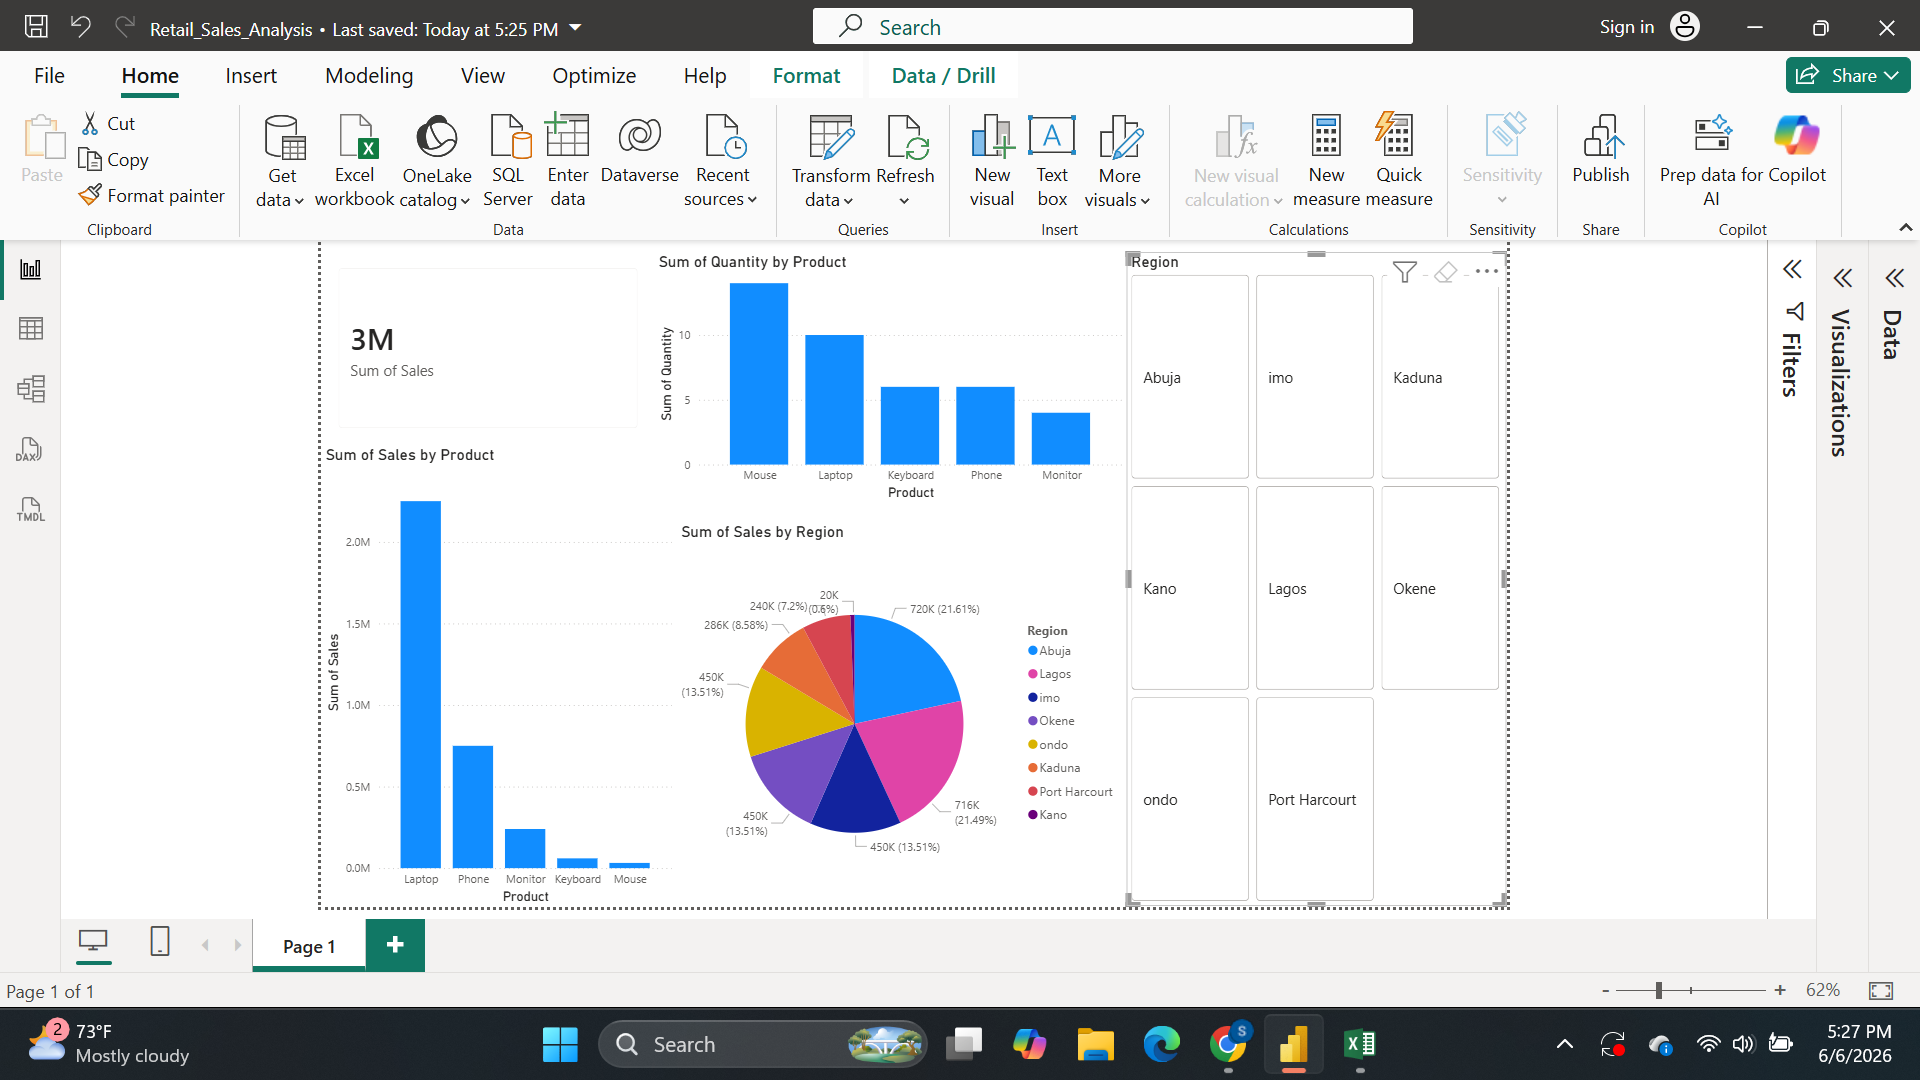

The dashboard page shown, as its layout file describes it:
{"tool":"powerbi","page":{"name":"Page 1","canvas":[1280,720],"ordinal":0},"visuals":[{"type":"clusteredColumnChart","fields":{"Y":["Sum(Sheet1.Sales)"],"Category":["Sheet1.Product"]},"box":[0,221.1,383.6,498.9],"z":0},{"type":"pieChart","fields":{"Category":["Sheet1.Region"],"Y":["Sum(Sheet1.Sales)"]},"box":[383.6,304.3,485.7,415.8],"z":1},{"type":"cardVisual","fields":{"Data":["Sum(Sheet1.Sales)"]},"box":[1.9,13.2,357.2,207.9],"z":2},{"type":"columnChart","fields":{"Category":["Sheet1.Product"],"Y":["Sum(Sheet1.Quantity)"]},"box":[359.1,13.2,510.2,272.1],"z":3},{"type":"advancedSlicerVisual","fields":{"Values":["Sheet1.Region"]},"box":[869.3,13.2,410.1,706.8],"z":4}]}

Visuals, with their boxes on the page's 1280x720 design canvas (x1, y1, x2, y2). These are canvas units, not pixel positions in the 1920x1080 screenshot, which may show the page scaled, cropped or inside an application window:
clusteredColumnChart - Sum(Sheet1.Sales) x Sheet1.Product: (x1=0, y1=221, x2=384, y2=720)
pieChart - Sheet1.Region x Sum(Sheet1.Sales): (x1=384, y1=304, x2=869, y2=720)
cardVisual - Sum(Sheet1.Sales): (x1=2, y1=13, x2=359, y2=221)
columnChart - Sheet1.Product x Sum(Sheet1.Quantity): (x1=359, y1=13, x2=869, y2=285)
advancedSlicerVisual - Sheet1.Region: (x1=869, y1=13, x2=1279, y2=720)
